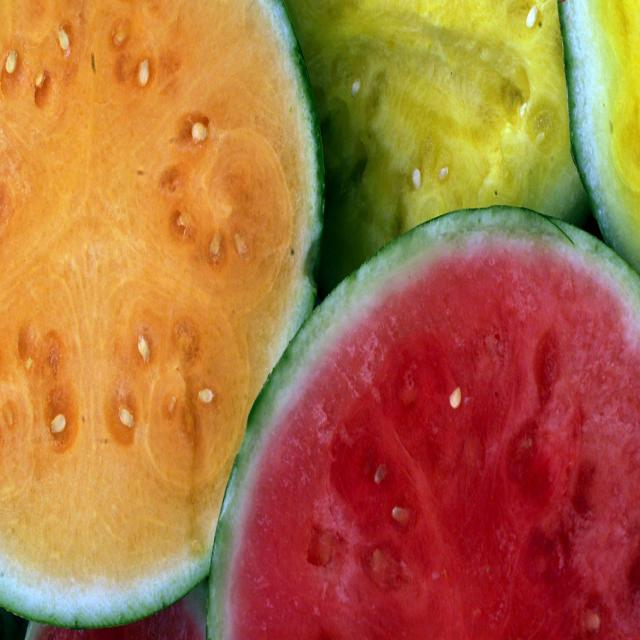watermelon: (0, 0, 332, 633), (194, 197, 640, 639)
